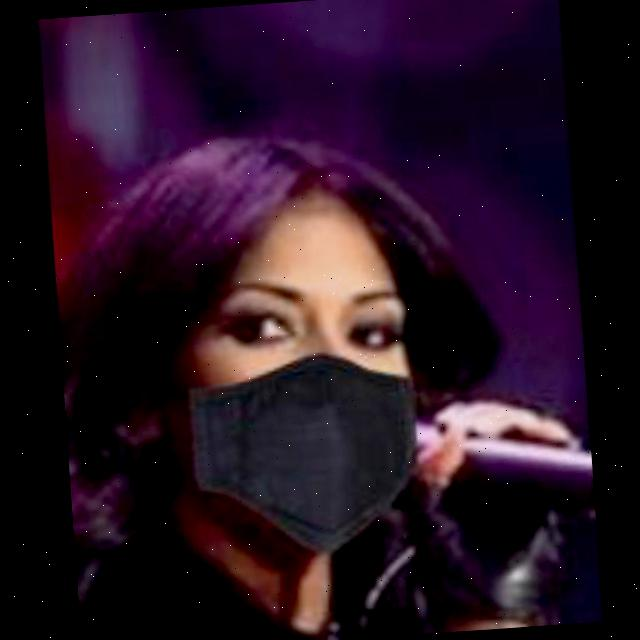suspicion: (160, 129, 470, 576)
